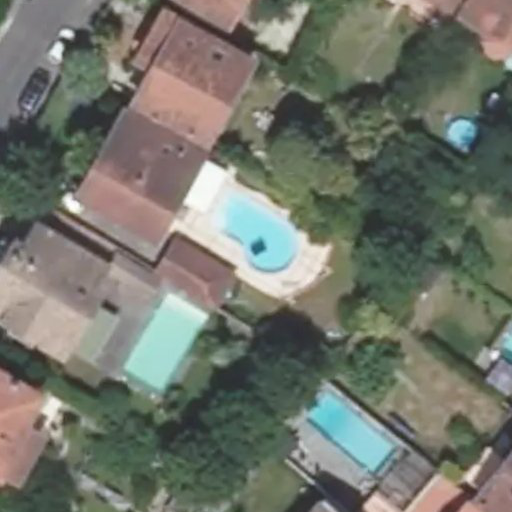pool: (206, 244, 308, 247)
